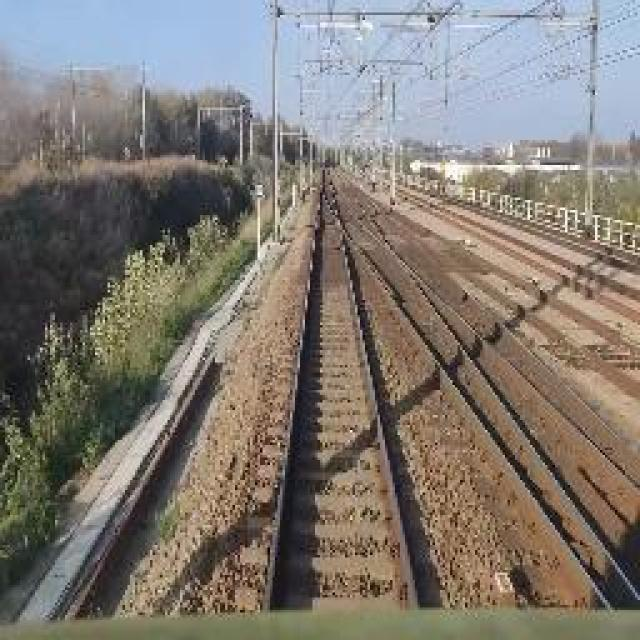rail: (236, 169, 449, 618)
